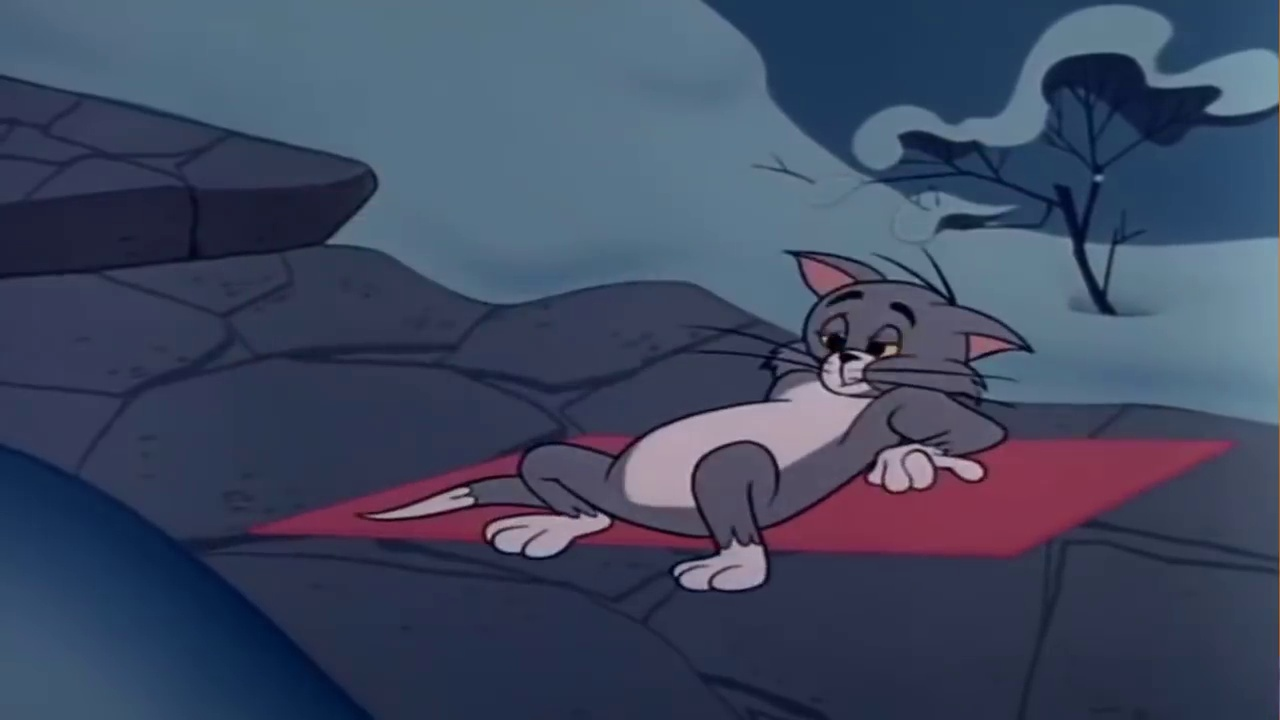face: (805, 286, 923, 399)
